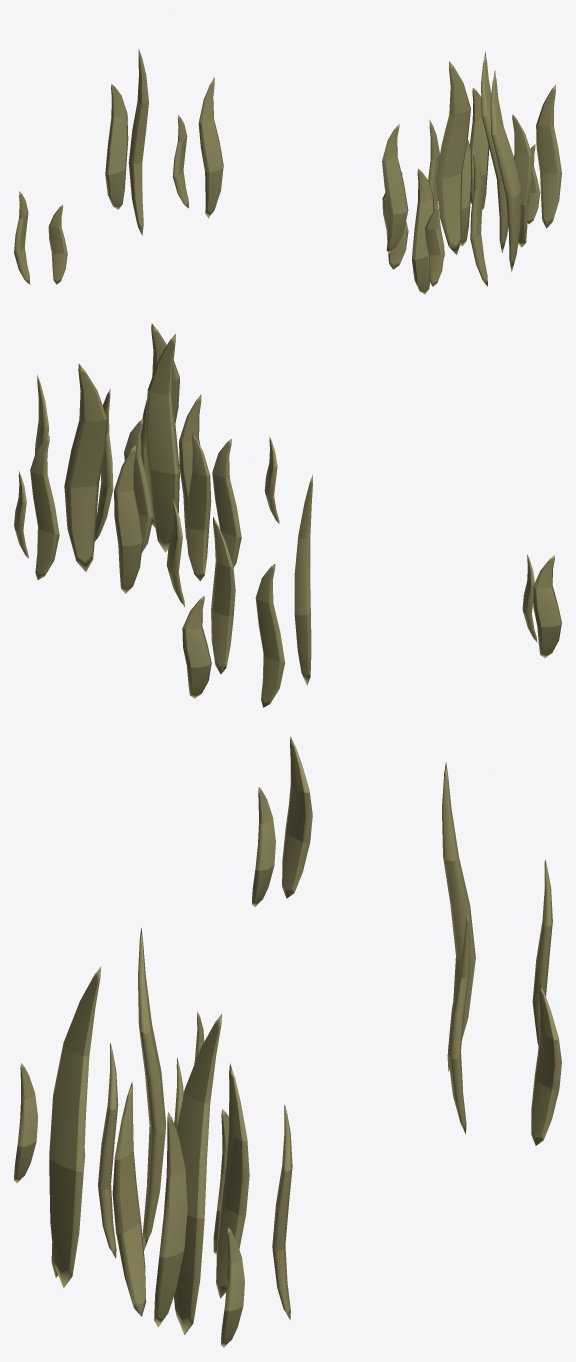
File: smooth grass.fbx
3 views of the same model, one above another, from view 1: azimuth 30°, elevation 25°; view 2: azimuth 150°, elevation 25°; view 3: azimuth 270°, elevation 25° (orthographic). The views are drawn at different scales.
Parts seen in each view (by area): view 1: Cube.019, Cube.016, Cube.017; view 2: Cube.019, Cube.016, Cube.017; view 3: Cube.019, Cube.016, Cube.017.
Part boxes in pixels (bbox=[...]): Cube.019: bbox=[382, 51, 561, 294]; Cube.016: bbox=[105, 14, 223, 235]; Cube.017: bbox=[14, 191, 67, 284]; Cube.019: bbox=[14, 323, 279, 606]; Cube.016: bbox=[182, 457, 312, 707]; Cube.017: bbox=[522, 554, 561, 657]; Cube.019: bbox=[14, 928, 292, 1347]; Cube.016: bbox=[442, 762, 561, 1145]; Cube.017: bbox=[252, 736, 312, 906].
Bounding box in the file's own units: 223 × 96.88 × 129.
